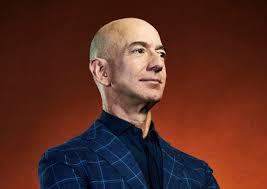Persons: (78, 14, 191, 127)
